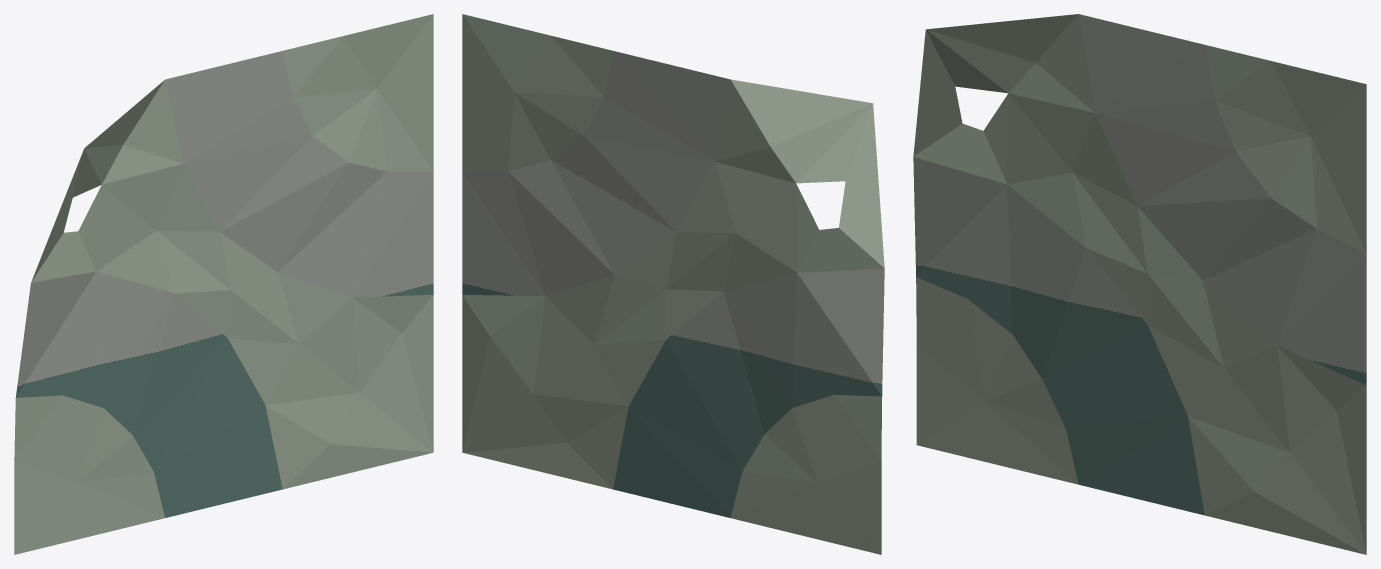
File: ColoredWallpapper_03.fbx
3 renders of one model, left to right at view 1: azimuth 30°, elevation 25°; view 2: azimuth 150°, elevation 25°; view 3: azimuth 330°, elevation 25°, orthographic. The views are drawn at different scales.
Visible parts, largest first — view 1: ColoredWallpapper_03; view 2: ColoredWallpapper_03; view 3: ColoredWallpapper_03.
Part boxes in pixels (bbox=[...]): ColoredWallpapper_03: bbox=[14, 14, 433, 554]; ColoredWallpapper_03: bbox=[462, 14, 884, 554]; ColoredWallpapper_03: bbox=[913, 14, 1366, 554].
Size of the model in its own units: 100 by 100 by 13.59.
Materials: 1 (1 with a texture image).
